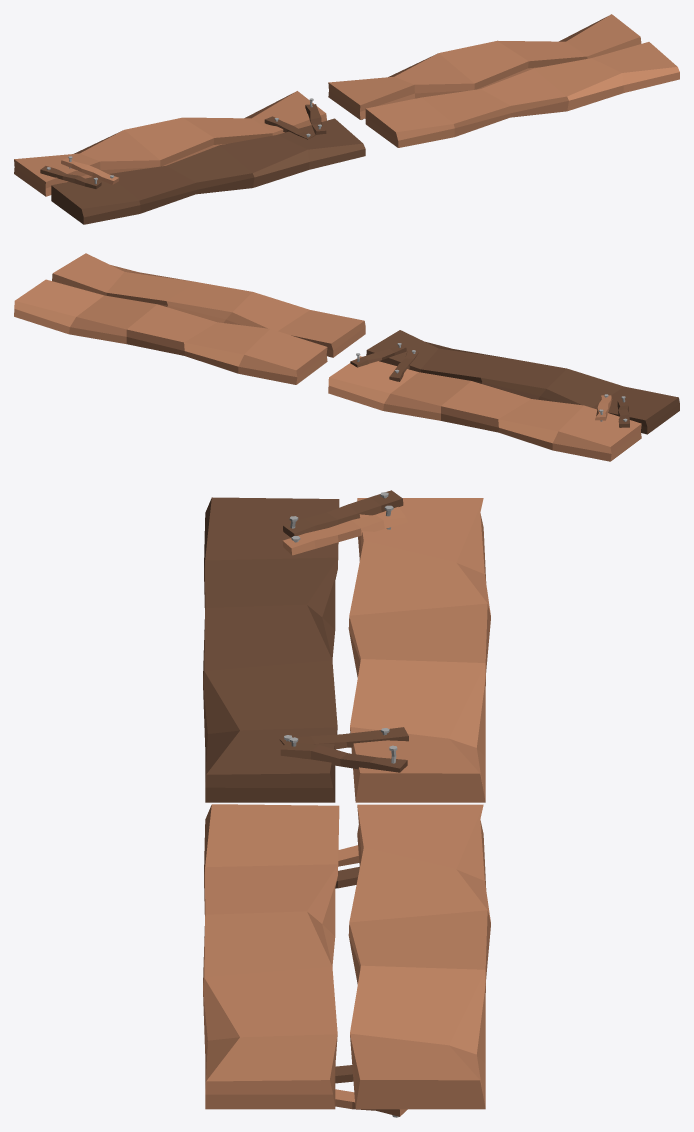
Rendered from planks.fbx.
3 views of the same model, one above another, from view 1: azimuth 30°, elevation 25°; view 2: azimuth 150°, elevation 25°; view 3: azimuth 270°, elevation 25° (orthographic). The views are drawn at different scales.
Visible parts, largest first — view 1: Planks.001, Planks; view 2: Planks.001, Planks; view 3: Planks, Planks.001.
Boxes of the visible parts, x1,y1,x2,y2 form: Planks.001: (14,91,365,224); Planks: (328,14,679,147); Planks.001: (328,330,679,461); Planks: (14,253,365,384); Planks: (203,804,490,1117); Planks.001: (203,490,490,802).
Bounding box in the file's own units: 3.39 × 0.1983 × 0.7092.
